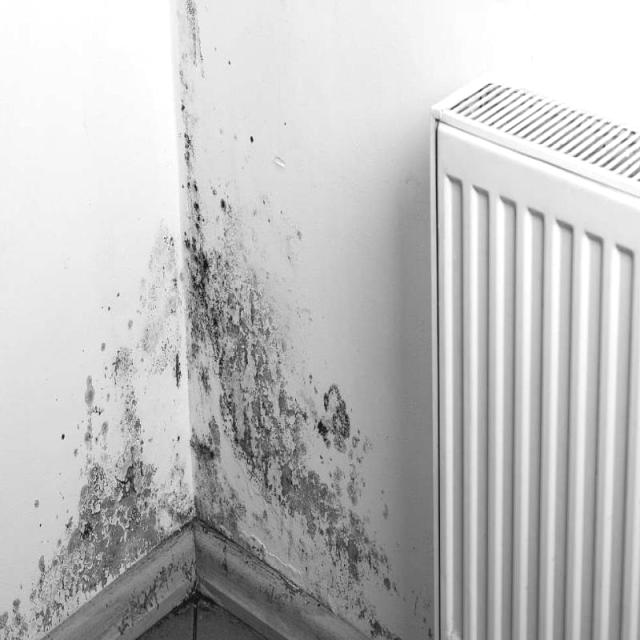stain marks: (0, 107, 399, 640)
